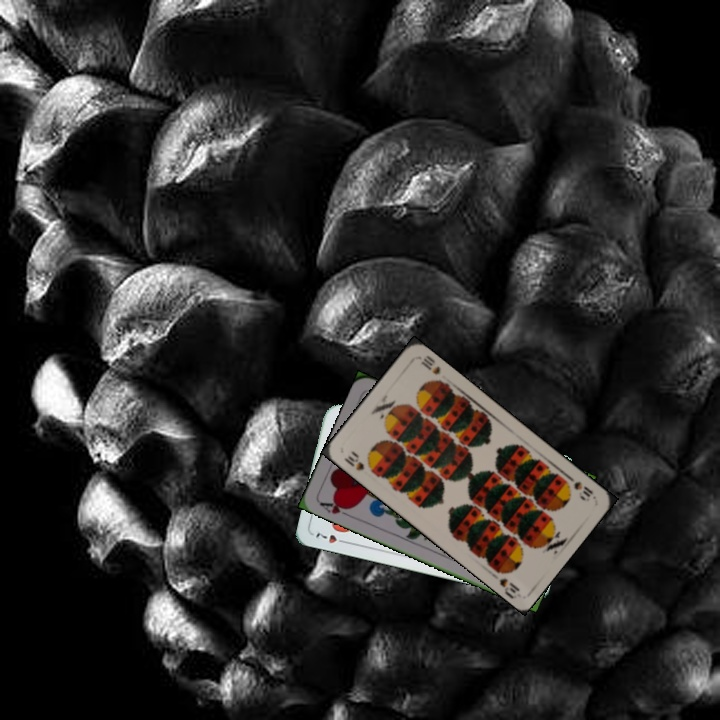H7: (312, 529, 350, 546)
HA: (315, 496, 355, 520)
S10: (340, 447, 376, 475), (570, 477, 595, 504)
